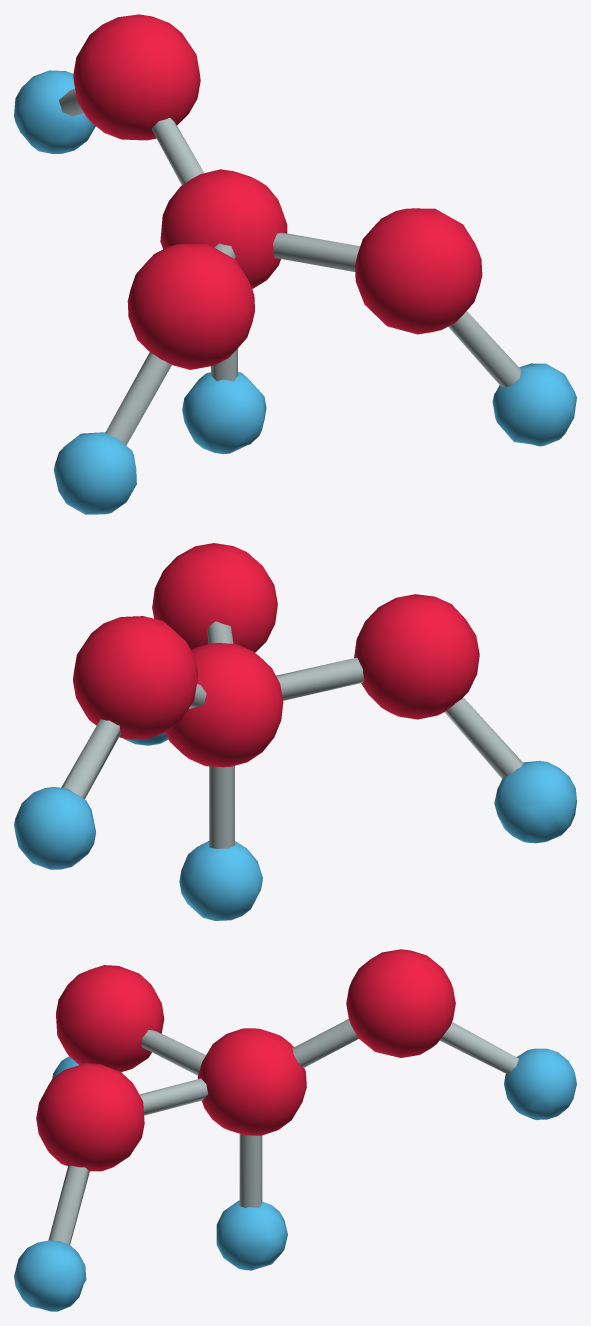
The model's file is ChemistryMol02.FBX.
3 renders of one model, top to bottom at view 1: azimuth 30°, elevation 25°; view 2: azimuth 150°, elevation 25°; view 3: azimuth 270°, elevation 25°, orthographic. The views are drawn at different scales.
Visible parts, largest first — view 1: ChemistryMol02; view 2: ChemistryMol02; view 3: ChemistryMol02.
Boxes of the visible parts, left/top/right/bottom form: ChemistryMol02: left=14, top=14, right=576, bottom=514; ChemistryMol02: left=14, top=543, right=576, bottom=920; ChemistryMol02: left=14, top=949, right=576, bottom=1311.
Bounding box in the file's own units: 54.93 × 39.34 × 63.98.
